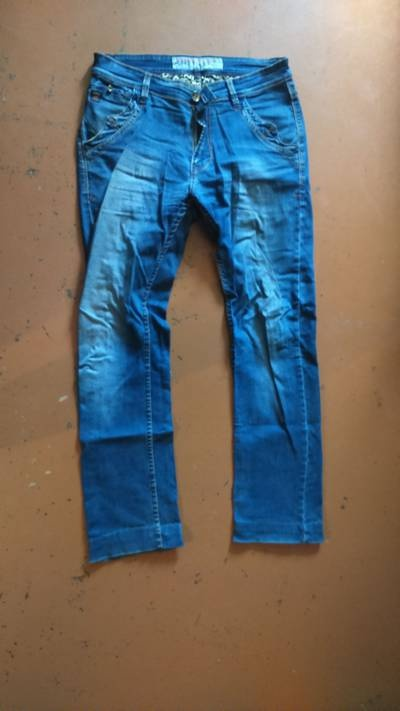Pants: (50, 33, 357, 594)
